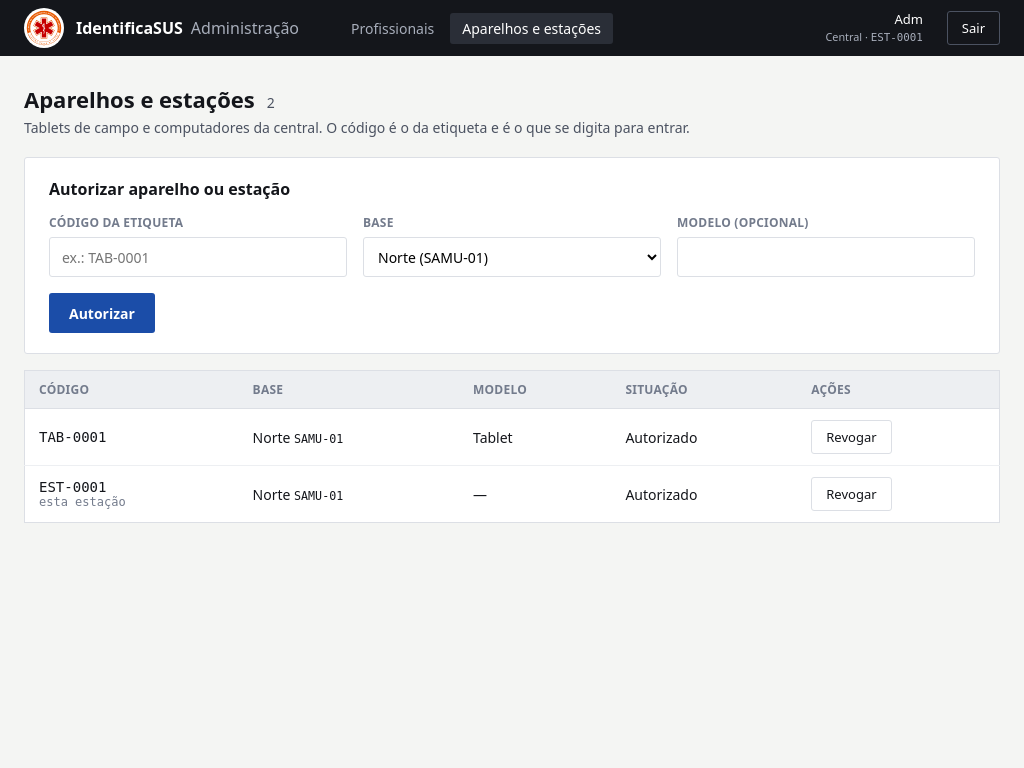
Test: aparelhos e estações › autoriza com código em maiúsculas, só em base ativa
The image size is (1024, 768).
Type "tab-0002" into the field labelled "Código da etiqueta" at (198, 257), box [49,237,347,277]
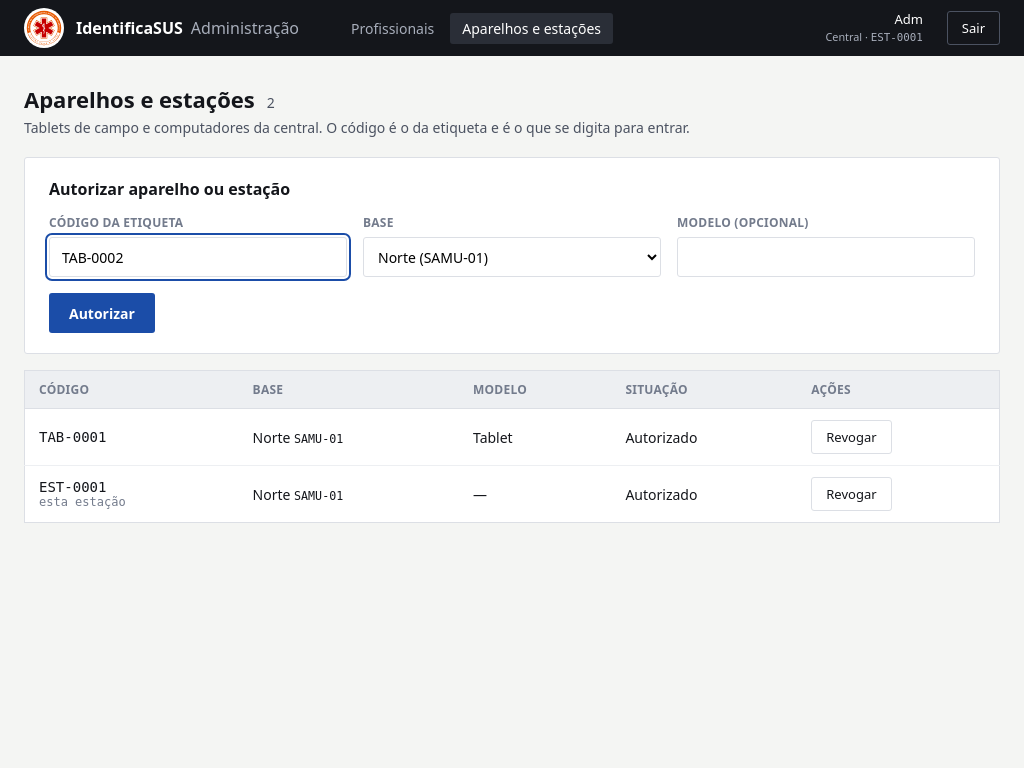
Click the button "Autorizar" at (102, 313), box [49,293,155,333]
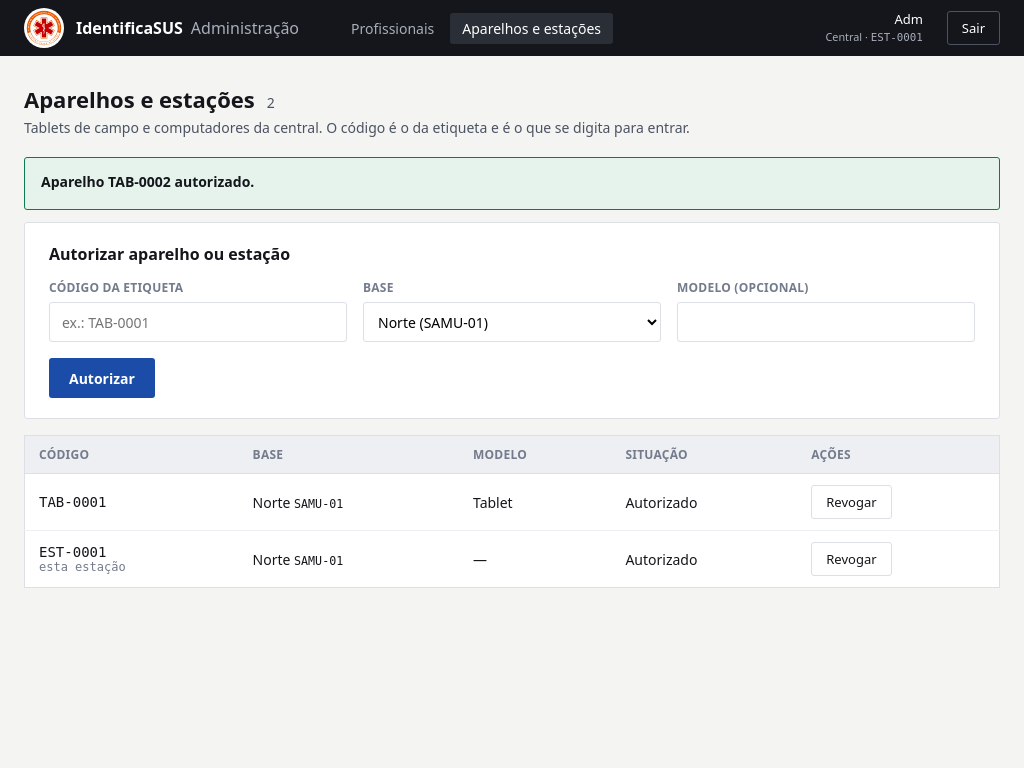
Now the text "Aparelho TAB-0002 autorizado." is shown, box [41,172,254,191]
